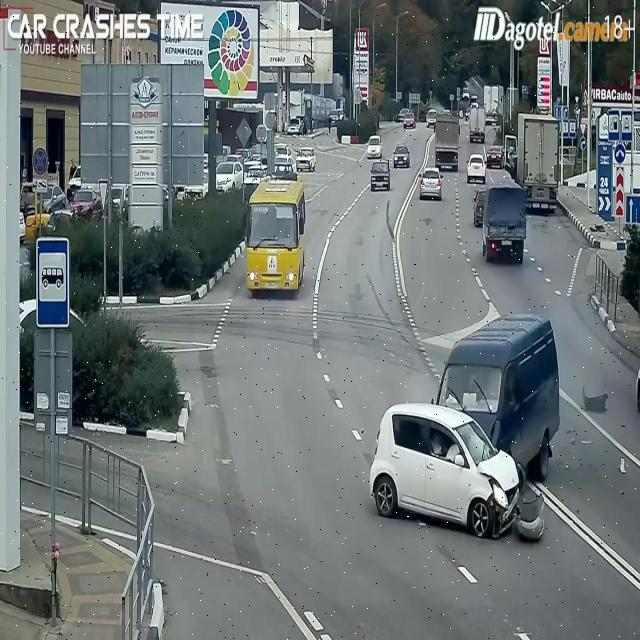moderate: (367, 311, 566, 546)
